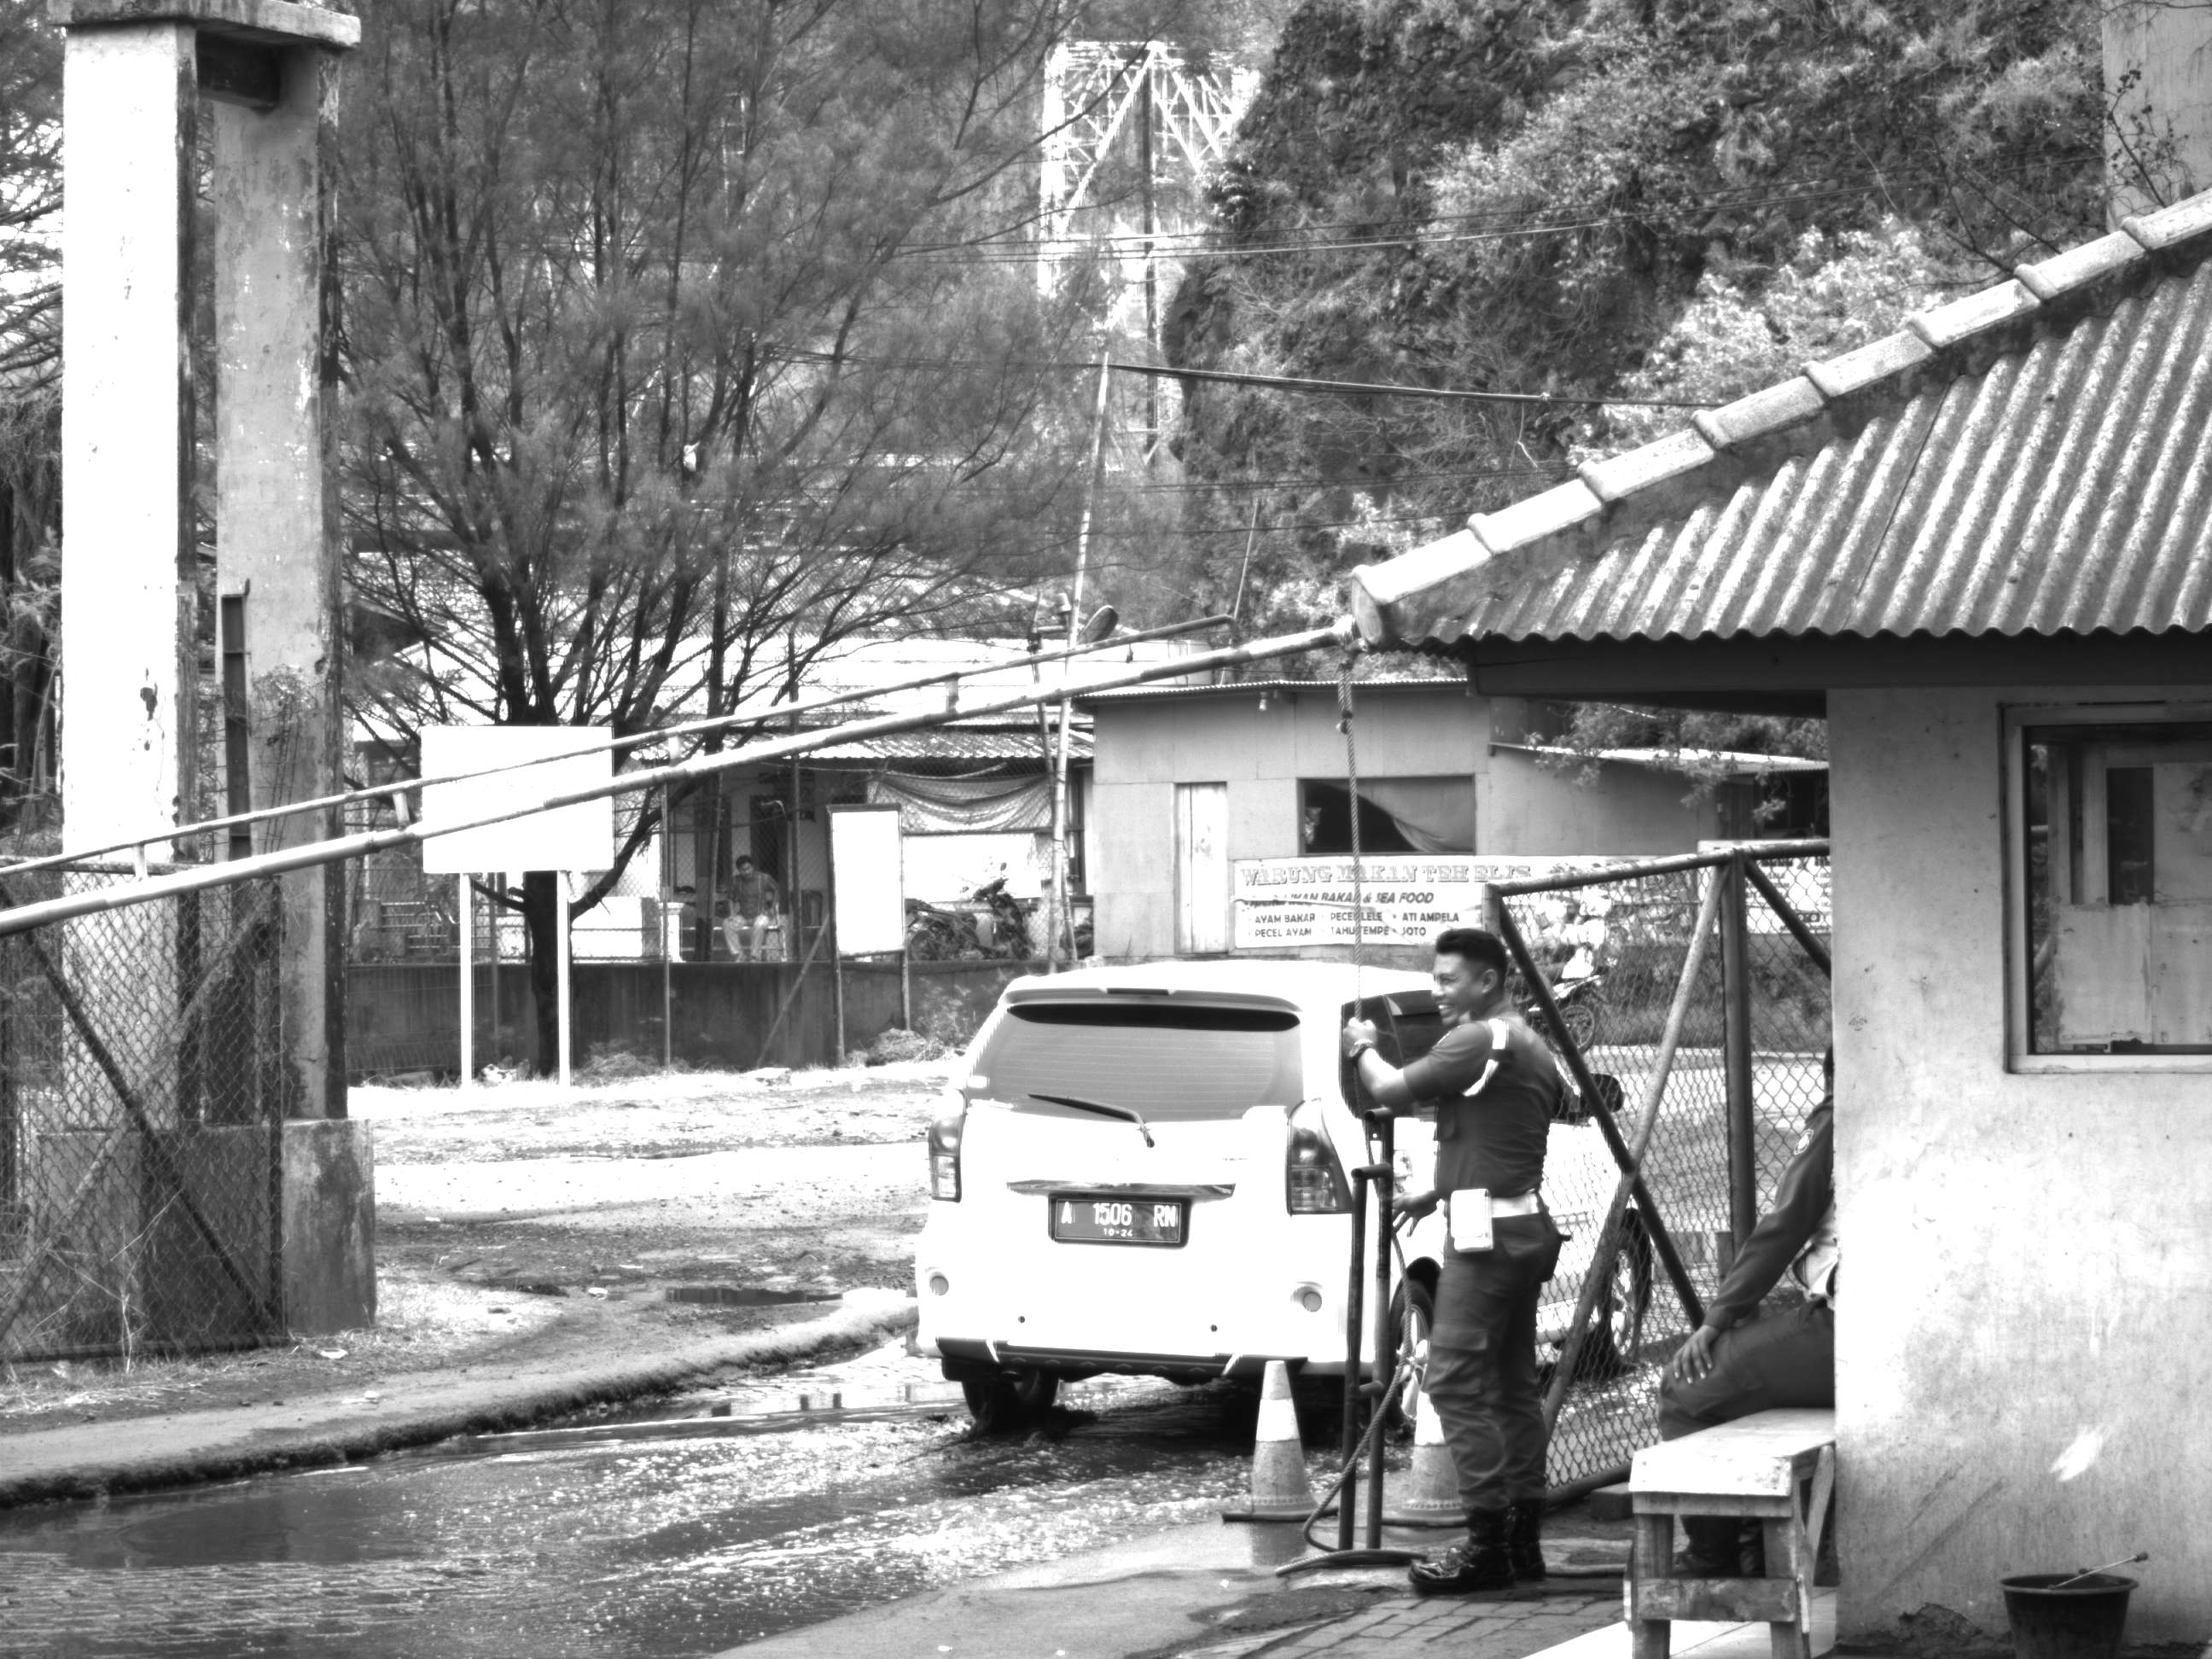day_small_rear: (911, 958, 1441, 1463)
plate: (1049, 1196, 1188, 1245)
